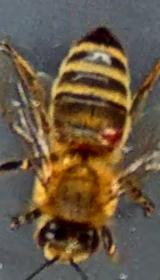varroa_mite: (81, 116, 135, 155)
